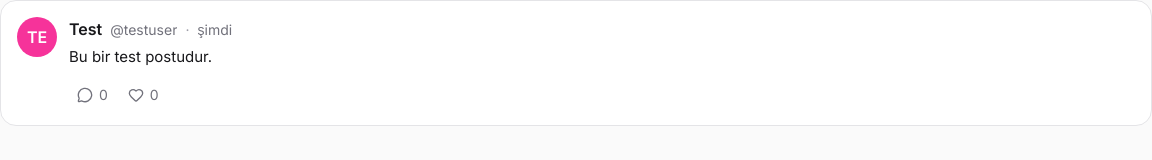
Test: PostCard Component › beğeni butonuna tıklandığında optimistik olarak UI günceller ve API çağırır
Kalbin olduğu butonu bul (SVG ikonundan veya başlangıç sayısı 0'dan)
Click the button named "beğen": x=143, y=95 [120,81,167,109]
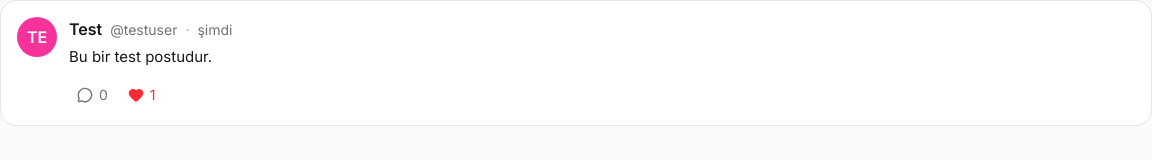
Check: the text "1" is shown, box [150,85,156,105]
